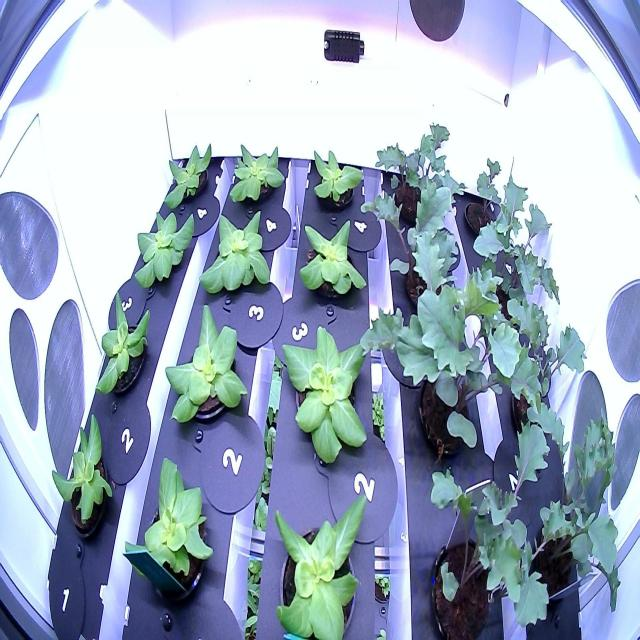young: (267, 475, 379, 639), (124, 446, 216, 616), (278, 321, 379, 468), (163, 299, 250, 434), (49, 407, 122, 551), (89, 282, 156, 405), (294, 218, 370, 320), (196, 208, 274, 306), (128, 198, 200, 295), (308, 132, 365, 216), (225, 139, 288, 212), (158, 136, 217, 213)
